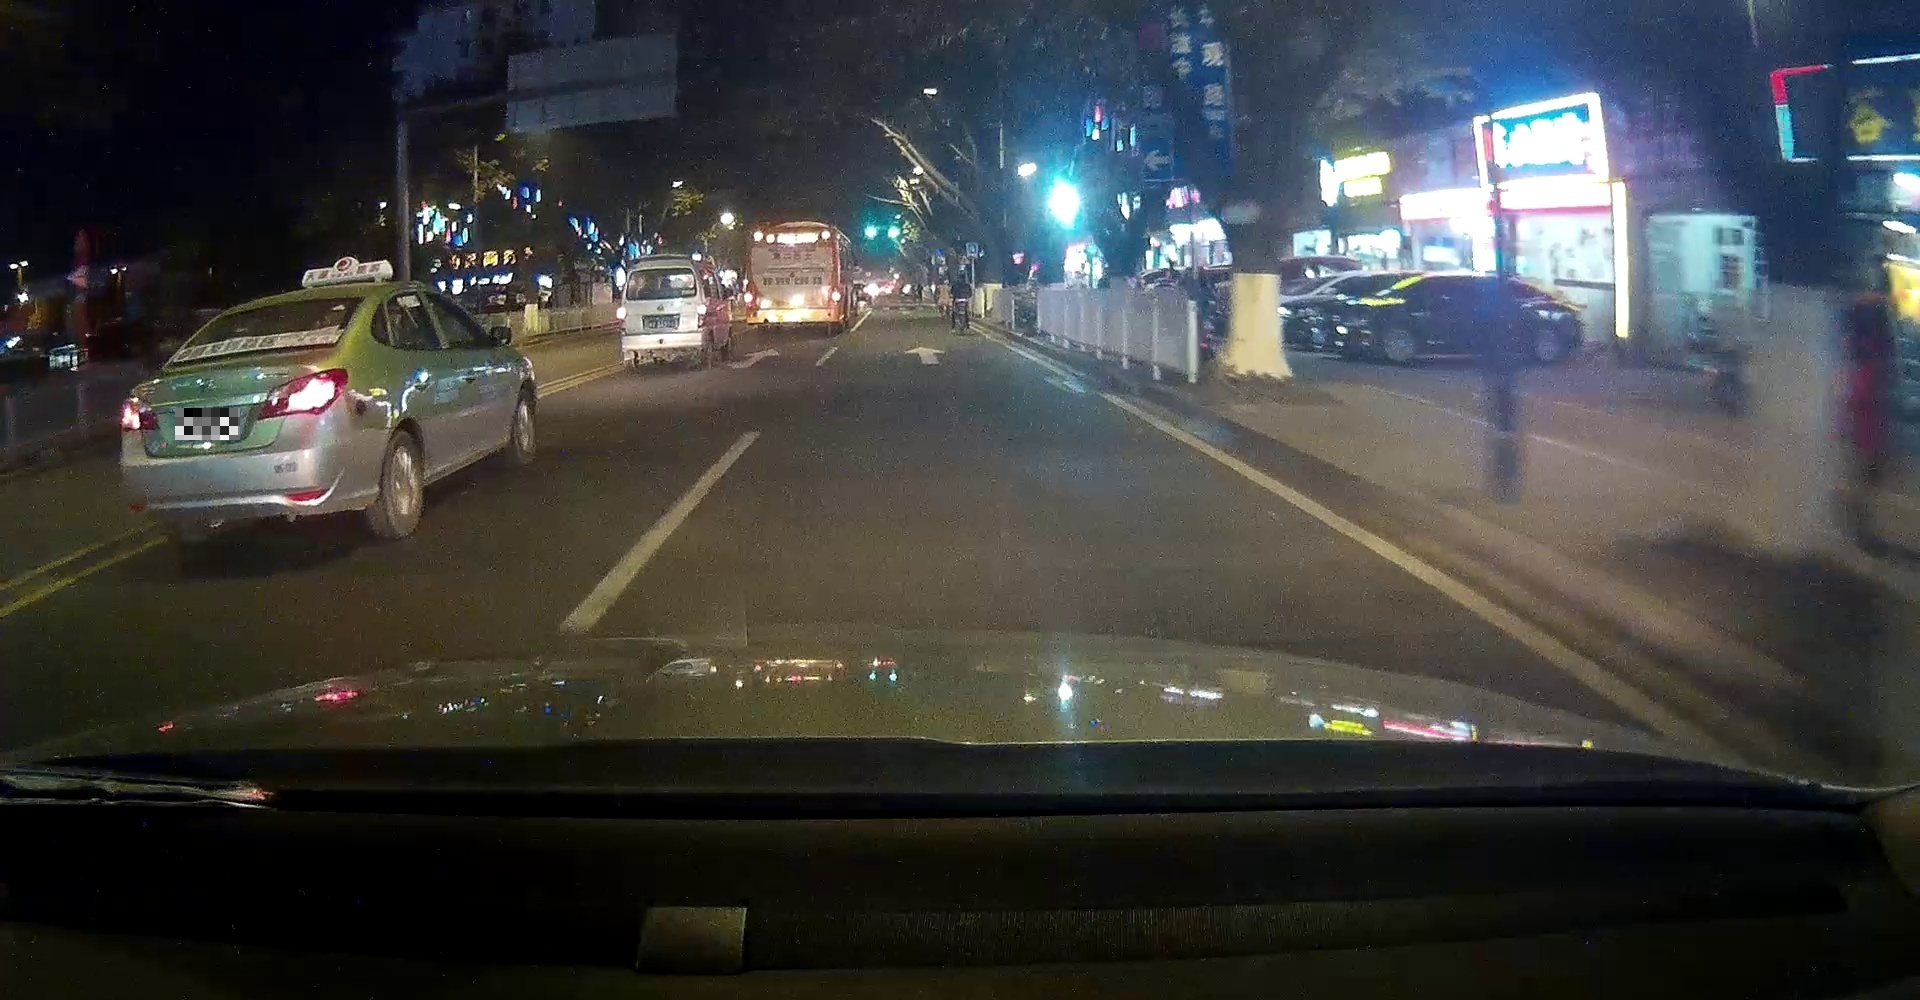L_light: (119, 393, 163, 431), (744, 282, 758, 308), (617, 306, 627, 330)
R_light: (257, 367, 348, 420), (696, 305, 709, 327), (828, 286, 841, 308)
T_light: (274, 294, 305, 305), (657, 254, 670, 259), (790, 228, 803, 234)
night-no: (116, 283, 376, 558), (743, 221, 841, 336), (616, 253, 709, 372)
plate_1: (175, 409, 240, 440)
